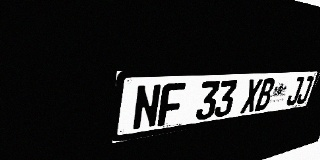3: (195, 81, 221, 121), (213, 80, 238, 118)
B: (254, 78, 276, 111)
F: (157, 82, 186, 127)
J: (285, 76, 305, 106), (295, 76, 314, 105)
N: (132, 84, 162, 131)
X: (240, 79, 263, 114)
